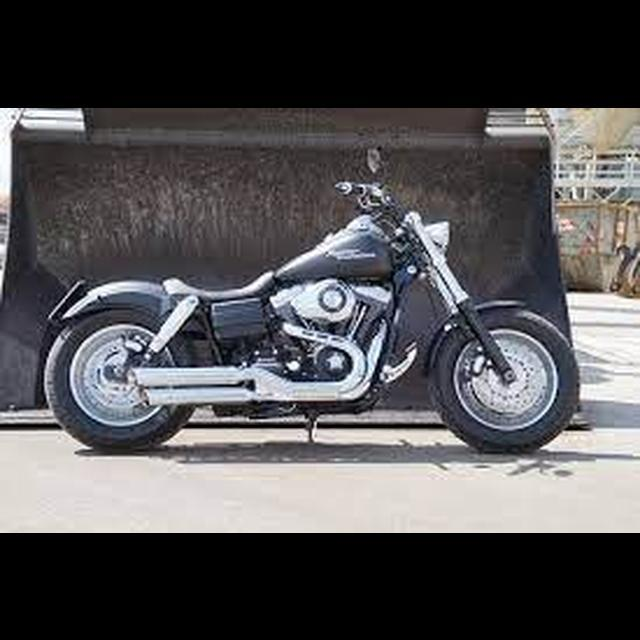motorcycle: (35, 141, 585, 461)
